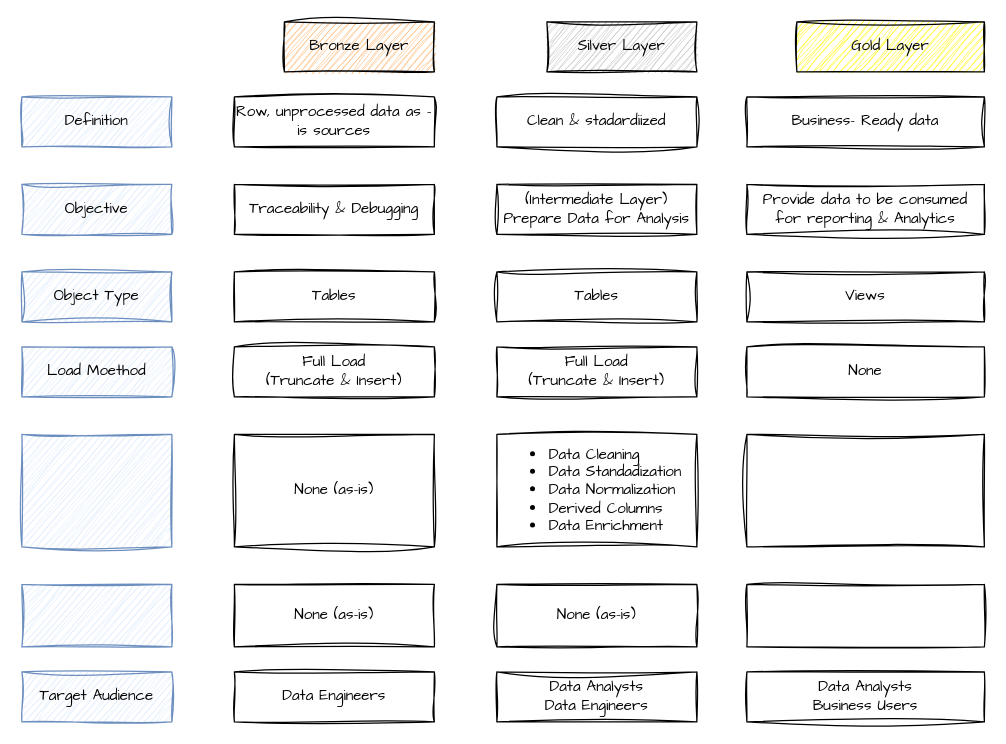
Some shapes in this 1006 by 744 pixel diagram are drawn without their labels. The centre of each missing label's shape, as x and y in pixels:
Data Integration Data Aggreation Business Logic & Rules: the point at 865,490
Data Modeling: the point at 96,615
Data Transfomation: the point at 96,490
Start Schema Aggregation Objects Flat Tables: the point at 865,615
